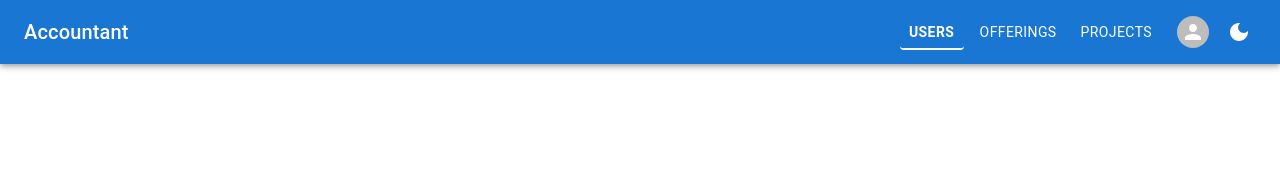
Test case: Header › opens a context menu with Edit Account and Logout options
This screenshot has width=1280, height=188.
Step 1. Click the button named "Account menu" → [1193, 32], box [1172,11,1214,53]
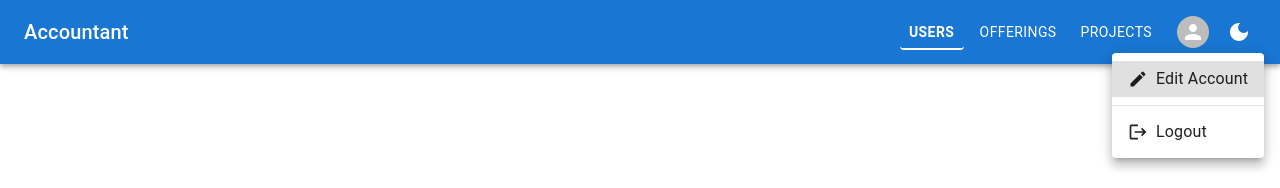
Result: the menu item "Edit Account" is shown at [1112,61,1264,97]
Result: the menu item "Logout" is shown at [1128,122,1207,142]
